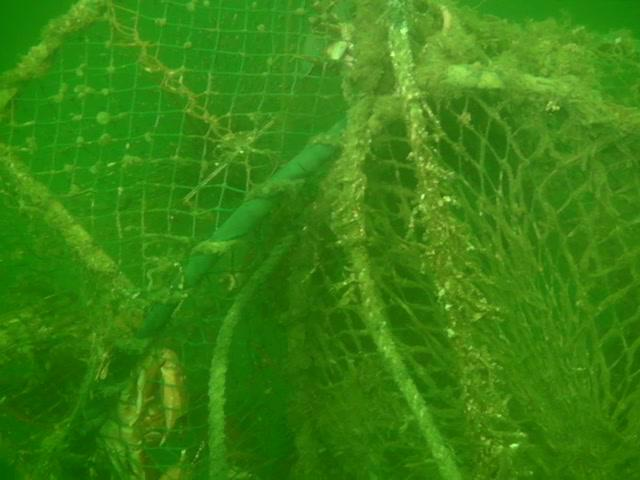circular fish trap: (0, 0, 494, 480), (286, 60, 640, 480)
rope: (332, 98, 463, 480), (206, 233, 291, 480)
